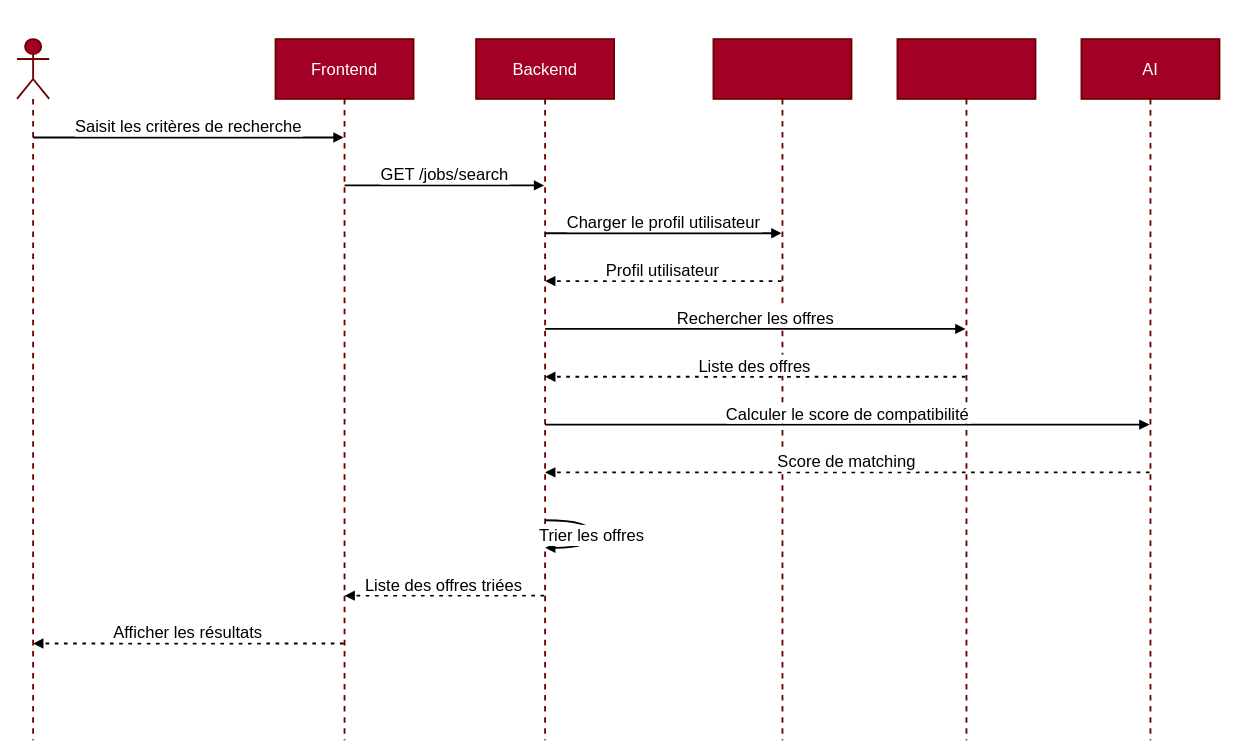
This 1236x756 diagram has some shape labels left out. Here are the shapes that lost their labels. From the top down, the centre of each, then its label:
the point at 782,389: PostgreSQL
the point at 966,389: JobAPI
